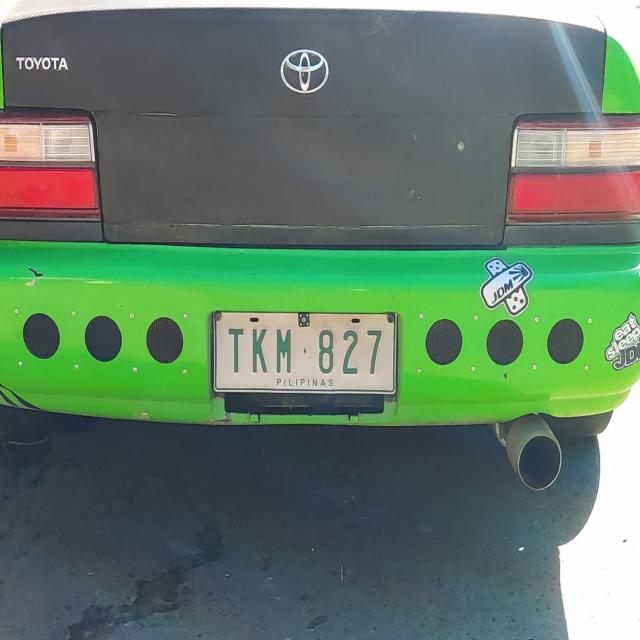plate: (210, 306, 402, 399)
